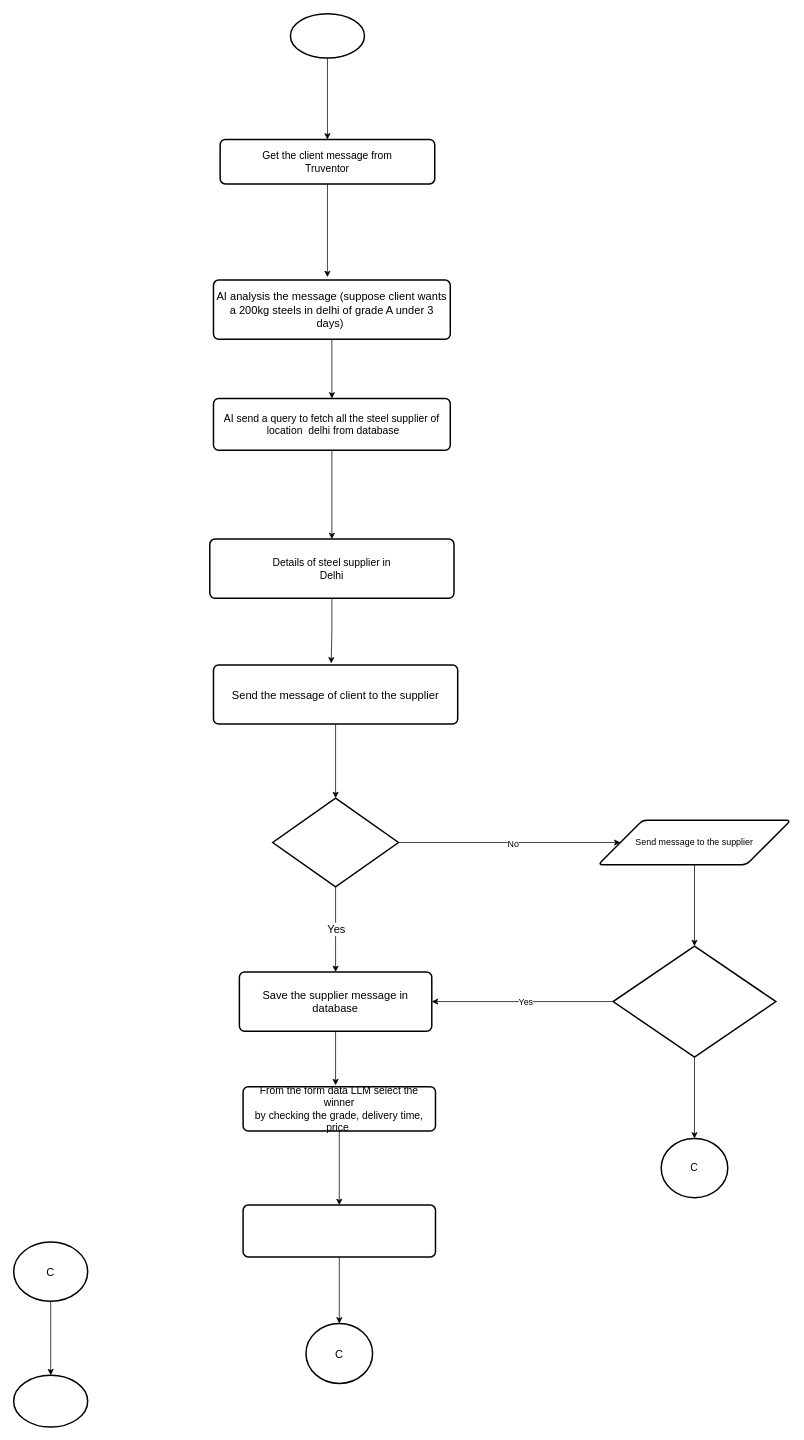
Some shapes in this 804 by 1440 pixel diagram are drawn without their labels. The centre of each missing label's shape, as x and y in pixels:
"END" belongs at (x=50, y=1400).
"If suppliers fill the form" belongs at (x=335, y=842).
"If suppliers replies" belongs at (x=694, y=1001).
"Send the congratulation message to the winner supplier with payment form" belongs at (x=339, y=1230).
"Start" belongs at (x=327, y=35).
